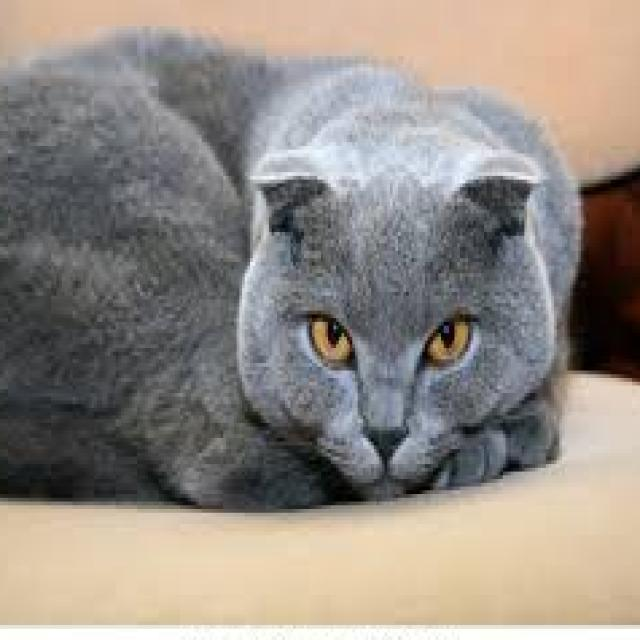Scottish Fold: (0, 22, 586, 516)
